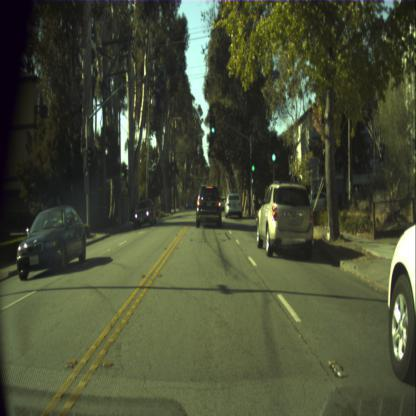Green: (271, 137, 276, 162), (211, 116, 215, 134), (251, 154, 254, 172), (122, 164, 124, 176)
